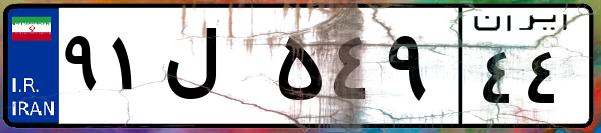1: (110, 28, 158, 98)
4: (330, 28, 385, 110), (475, 38, 525, 113), (525, 38, 570, 115)
5: (270, 28, 330, 110)
9: (385, 28, 445, 110), (57, 26, 110, 100)
ل: (158, 20, 270, 120)
